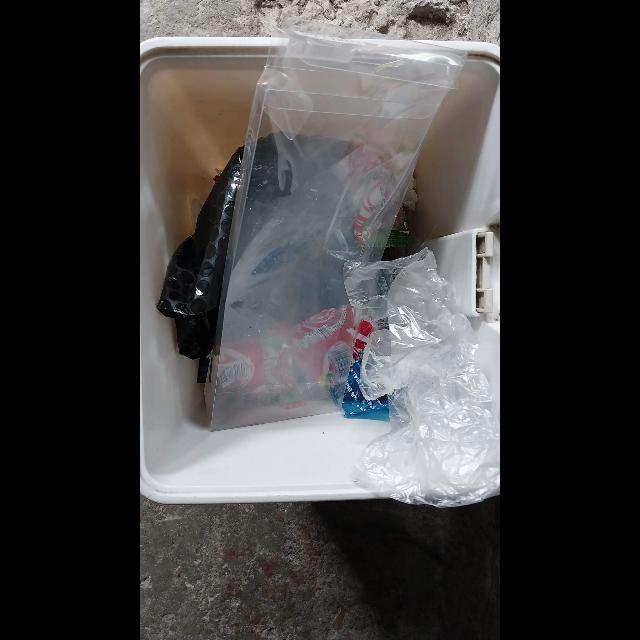plastic_bag: (343, 247, 500, 508)
